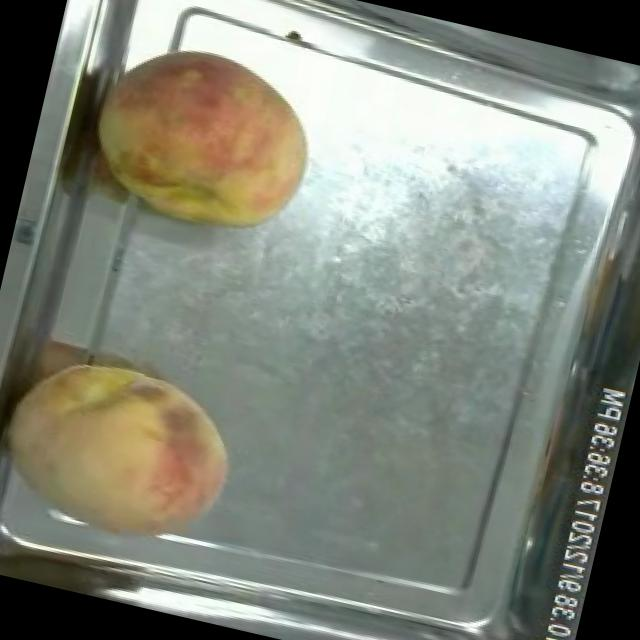Fruit: (0, 333, 259, 579), (69, 18, 332, 260)
